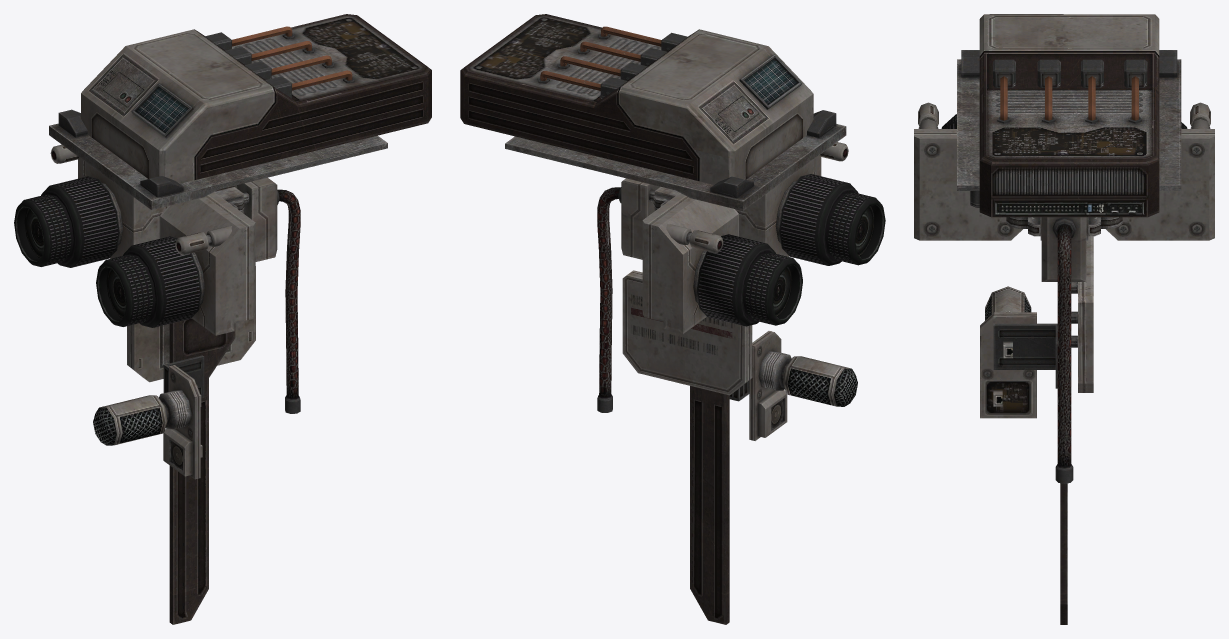
File: 03_02_worker_medium_maintenance_brain_02.dae
The picture shows the model from 3 angles, left to right: view 1: azimuth 30°, elevation 25°; view 2: azimuth 150°, elevation 25°; view 3: azimuth 270°, elevation 25°; orthographic projection. The views are drawn at different scales.
Visible parts, largest first — view 1: polySurface371; view 2: polySurface371; view 3: polySurface371.
Boxes of the visible parts, box(x1,y1,x2,y2) form: polySurface371: box(14, 14, 431, 624); polySurface371: box(460, 14, 885, 624); polySurface371: box(914, 14, 1214, 624).
Bounding box in the file's own units: 0.1187 × 0.1899 × 0.0865.
